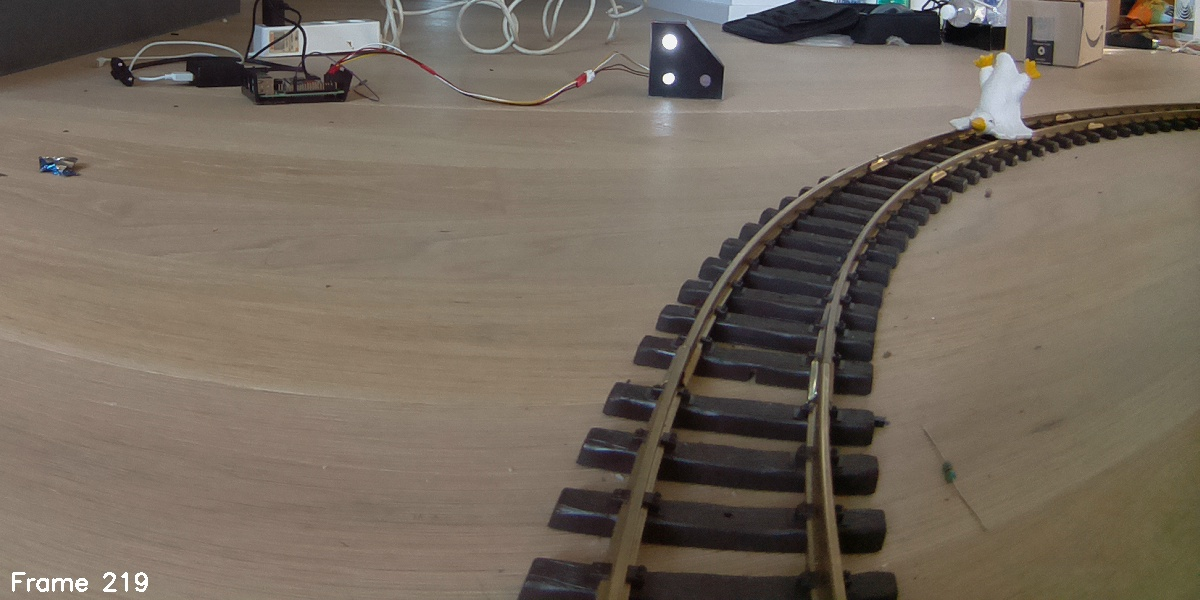Ente: (950, 50, 1040, 147)
Fahrt: (648, 19, 724, 100)
